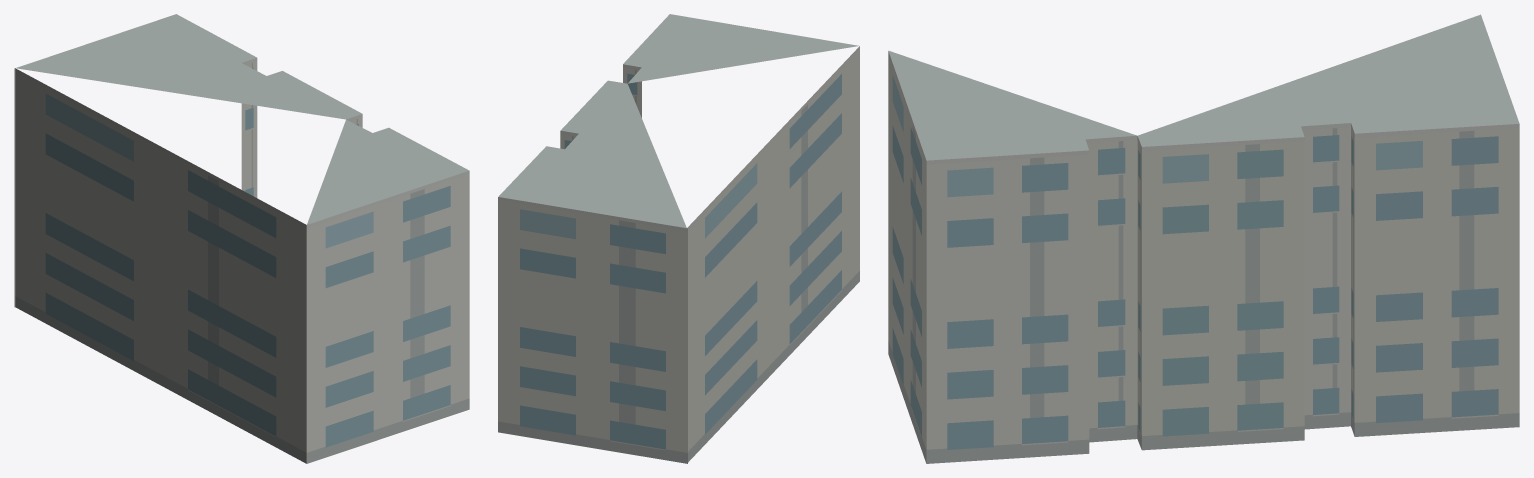
File: survey-upis-32949834.glb
The picture shows the model from 3 angles, left to right: view 1: azimuth 30°, elevation 25°; view 2: azimuth 150°, elevation 25°; view 3: azimuth 270°, elevation 25°; orthographic projection. The views are drawn at different scales.
Visible parts, largest first — view 1: survey-upis-32949834.tmp; view 2: survey-upis-32949834.tmp; view 3: survey-upis-32949834.tmp.
Part boxes in pixels (x1,y1,x2,y2): survey-upis-32949834.tmp: [14, 14, 469, 463]; survey-upis-32949834.tmp: [498, 14, 859, 463]; survey-upis-32949834.tmp: [888, 14, 1519, 463].
Bounding box in the file's own units: 18.05 × 17.4 × 32.84.
